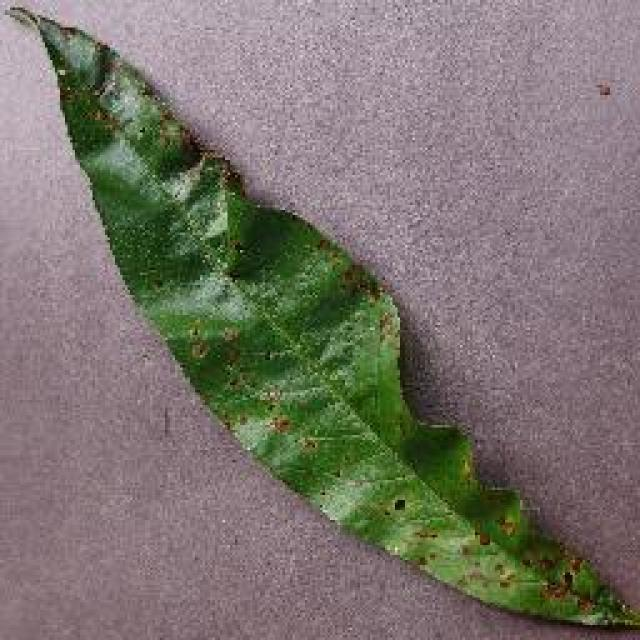Peach_Bacterial_Spot: (130, 90, 450, 513)
